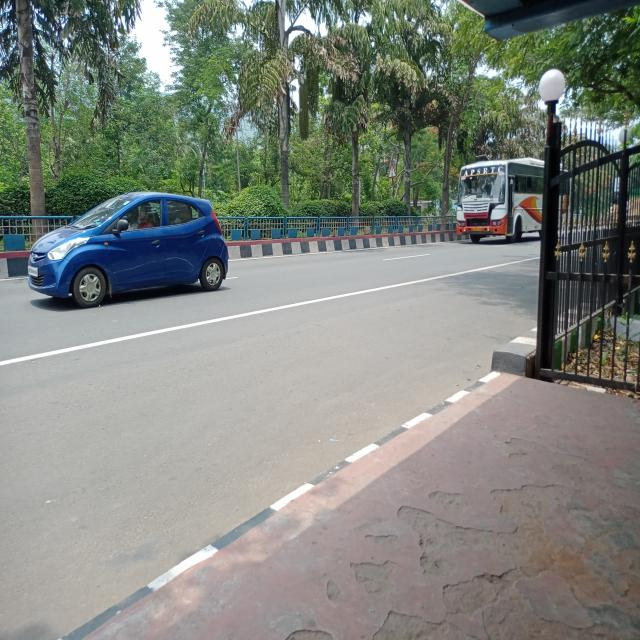bus: (454, 158, 547, 250)
car: (27, 170, 236, 308)
